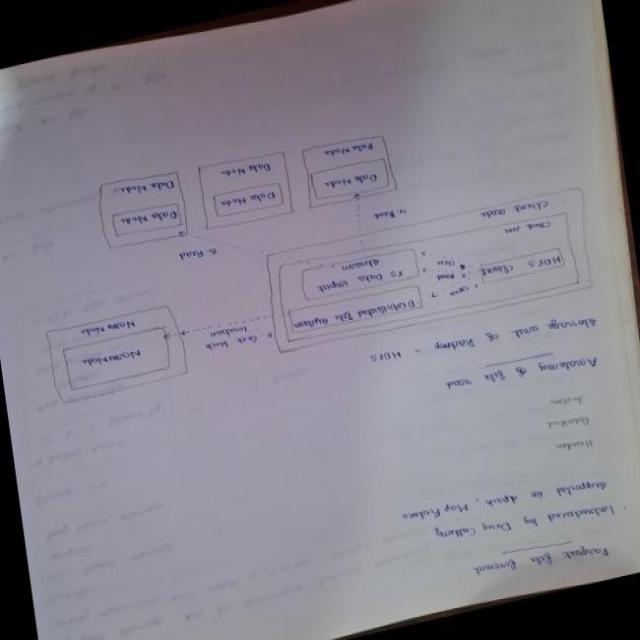Figure Detection - v3 Dataset Version2: (18, 53, 621, 428)
